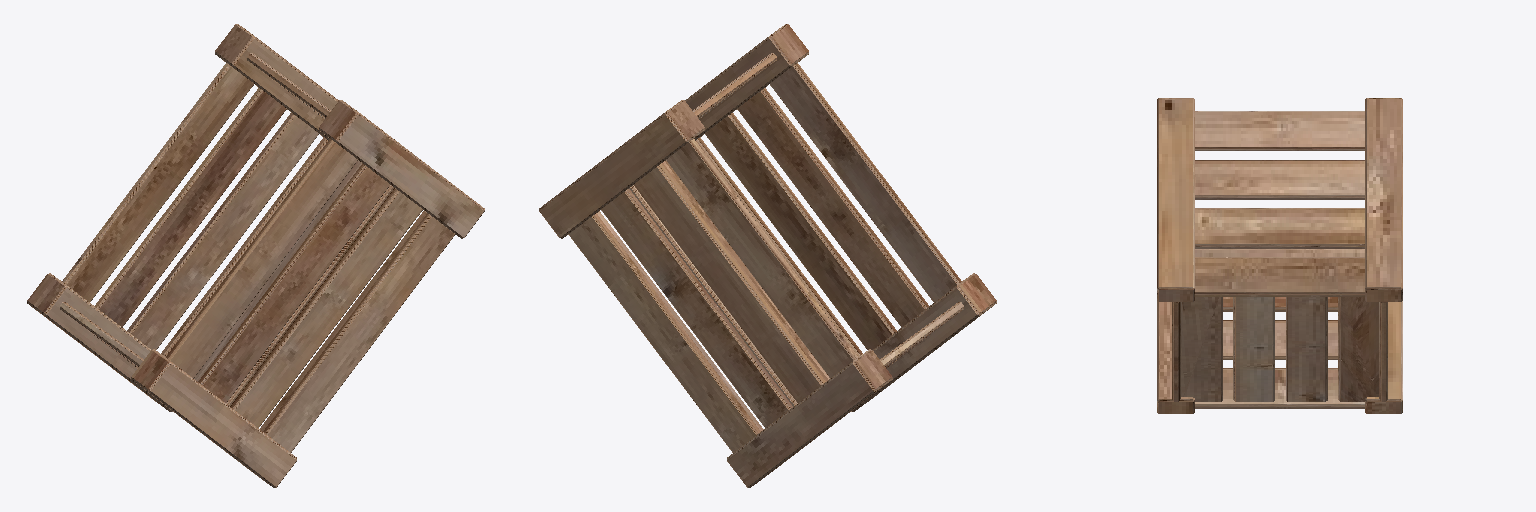
3 renders of one model, left to right at view 1: azimuth 30°, elevation 25°; view 2: azimuth 150°, elevation 25°; view 3: azimuth 270°, elevation 25°, orthographic.
Visible parts, largest first — view 1: Mesh.017_Mesh_Crate_Cube; view 2: Mesh.017_Mesh_Crate_Cube; view 3: Mesh.017_Mesh_Crate_Cube.
Boxes of the visible parts, <box> form: Mesh.017_Mesh_Crate_Cube: <box>27,24,484,487</box>; Mesh.017_Mesh_Crate_Cube: <box>539,24,996,487</box>; Mesh.017_Mesh_Crate_Cube: <box>1157,98,1402,413</box>.
Bounding box in the file's own units: 0.932 × 0.9408 × 0.5907.
1 materials, 1 textured.